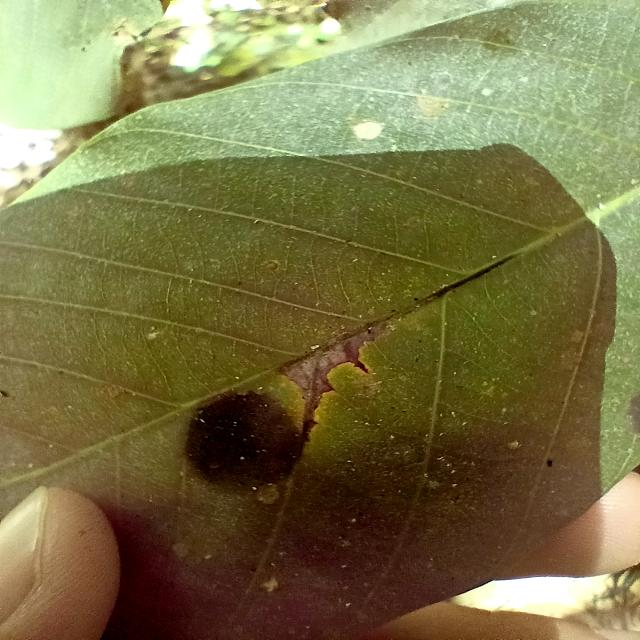Corynespora: (276, 325, 382, 441), (421, 252, 516, 302)
